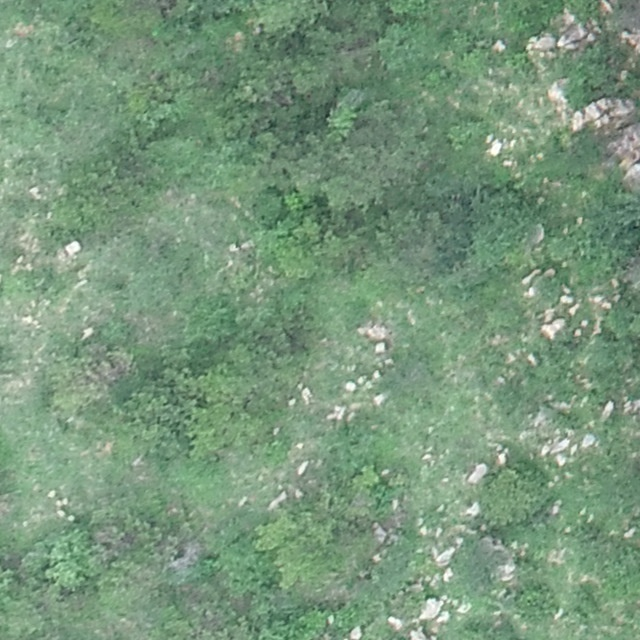unhealthy: (171, 539, 205, 573)
